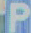Parking: (5, 1, 29, 32)
